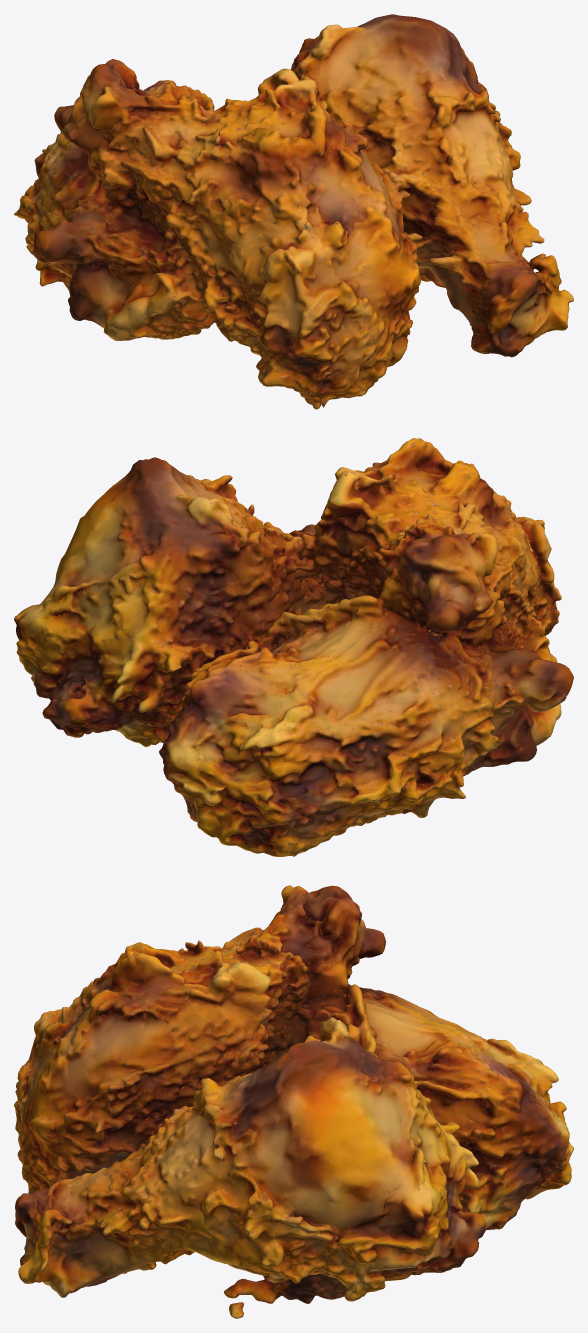
File: fastfood.glb
The picture shows the model from 3 angles, top to bottom: view 1: azimuth 30°, elevation 25°; view 2: azimuth 150°, elevation 25°; view 3: azimuth 270°, elevation 25°; orthographic projection. The views are drawn at different scales.
Bounding box in the file's own units: 1.99 × 1.09 × 2.
Materials: 1 (1 with a texture image).
